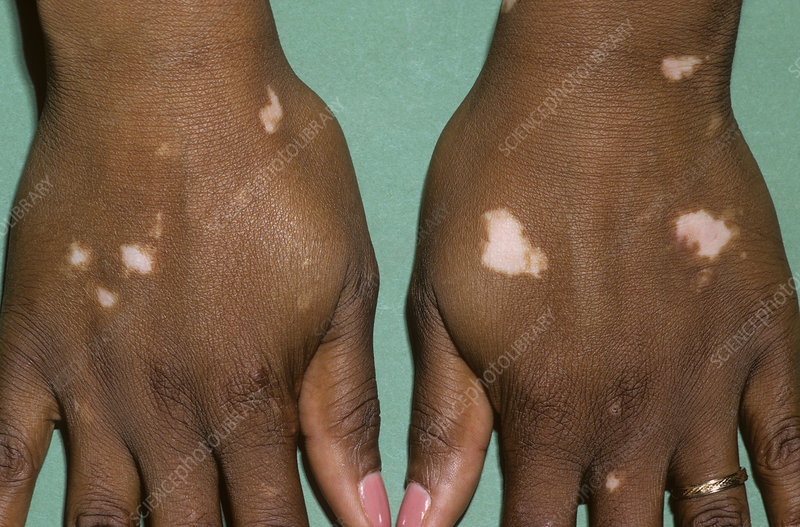vitiligo: (53, 85, 288, 328), (492, 115, 746, 320)
